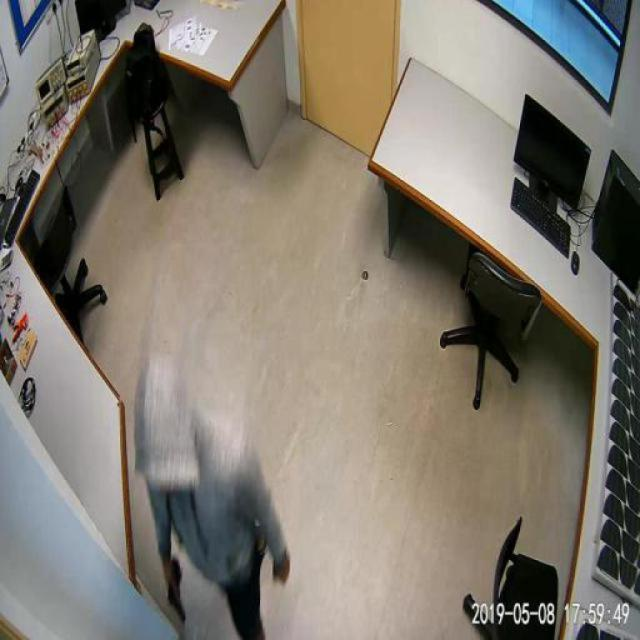pistol: (165, 554, 185, 622)
